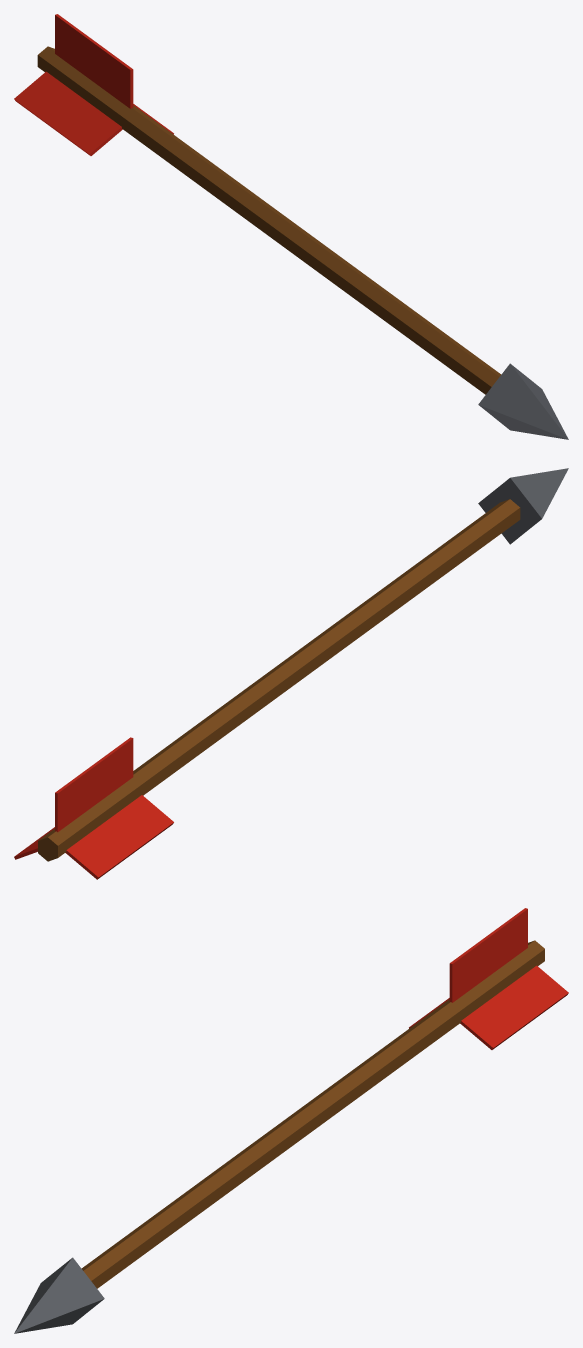
The model's file is arrow.glb.
3 views of the same model, one above another, from view 1: azimuth 30°, elevation 25°; view 2: azimuth 150°, elevation 25°; view 3: azimuth 330°, elevation 25° (orthographic).
Parts seen in each view (by area): view 1: arrow; view 2: arrow; view 3: arrow.
Part boxes in pixels (bbox=[...]): arrow: bbox=[14, 14, 568, 439]; arrow: bbox=[14, 468, 568, 879]; arrow: bbox=[14, 908, 568, 1333].
Size of the model in its own units: 0.0582 by 0.055 by 0.62.
